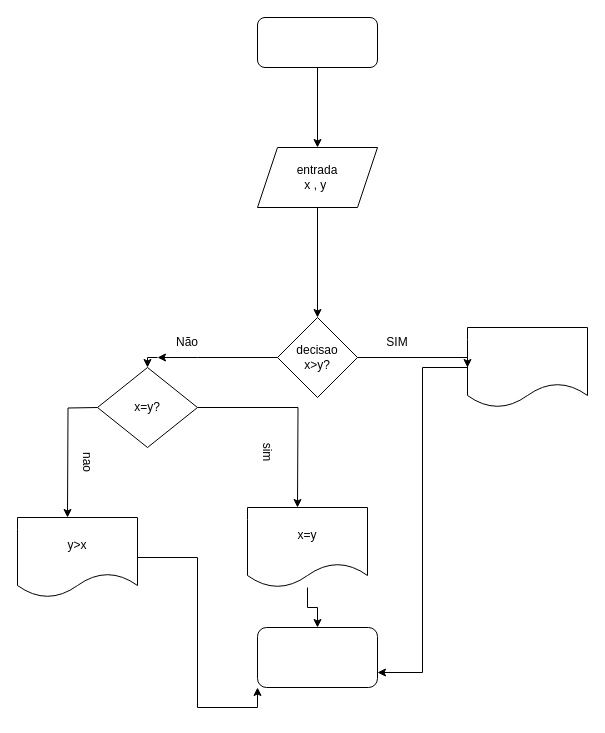
Some shapes in this 605 by 733 pixel diagram are drawn without their labels. The shapes that lost their labels are listed below. From the top down, each one's centre as x and y in pixels, then its label:
the point at 317,42: inicio
the point at 527,367: resultado x>
the point at 317,657: fim
